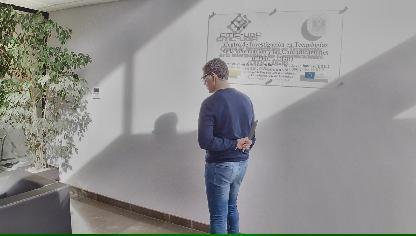knife: (240, 115, 260, 151)
